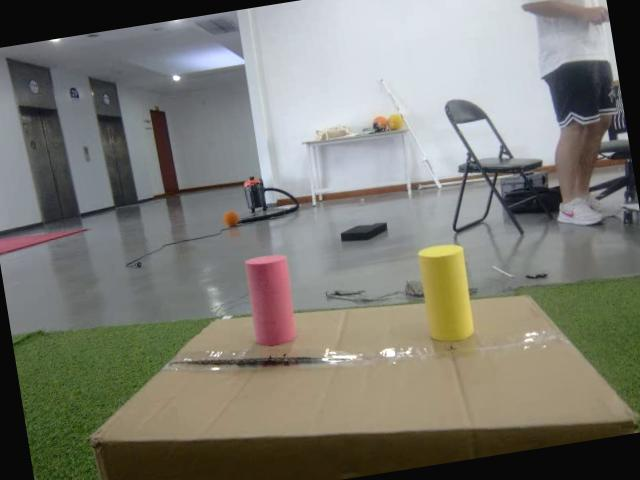red_cylinder: (242, 252, 300, 349)
yellow_cylinder: (414, 239, 476, 348)
